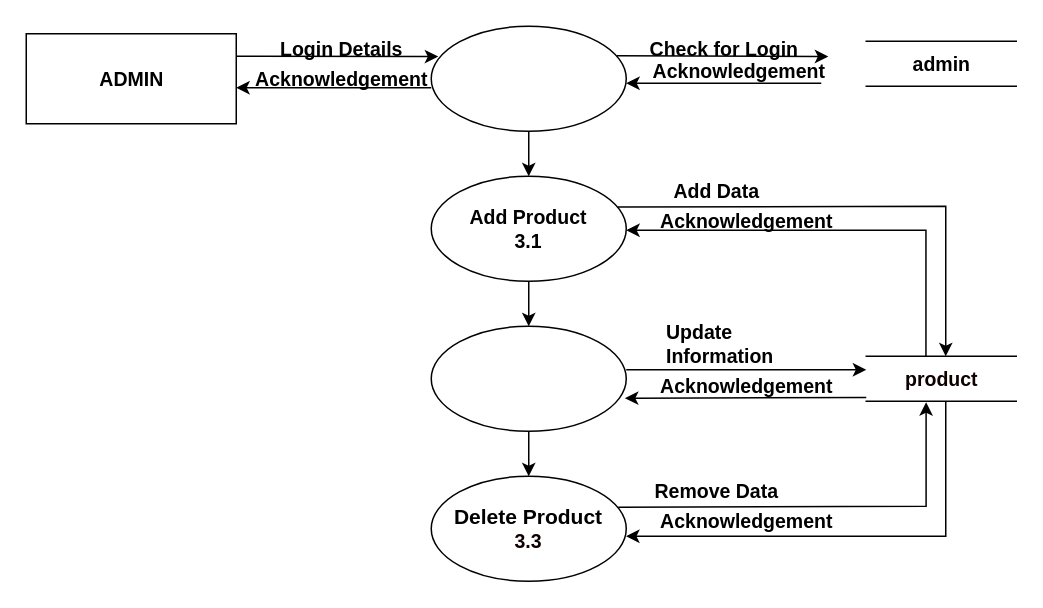
This 1043x608 diagram has some shape labels left out. The box of each missing label's shape, as (x1, y1, x2, y2) in pixels:
Change Price/Quantity 3.2: (430, 325, 626, 431)
Login 3.0: (430, 25, 626, 131)
